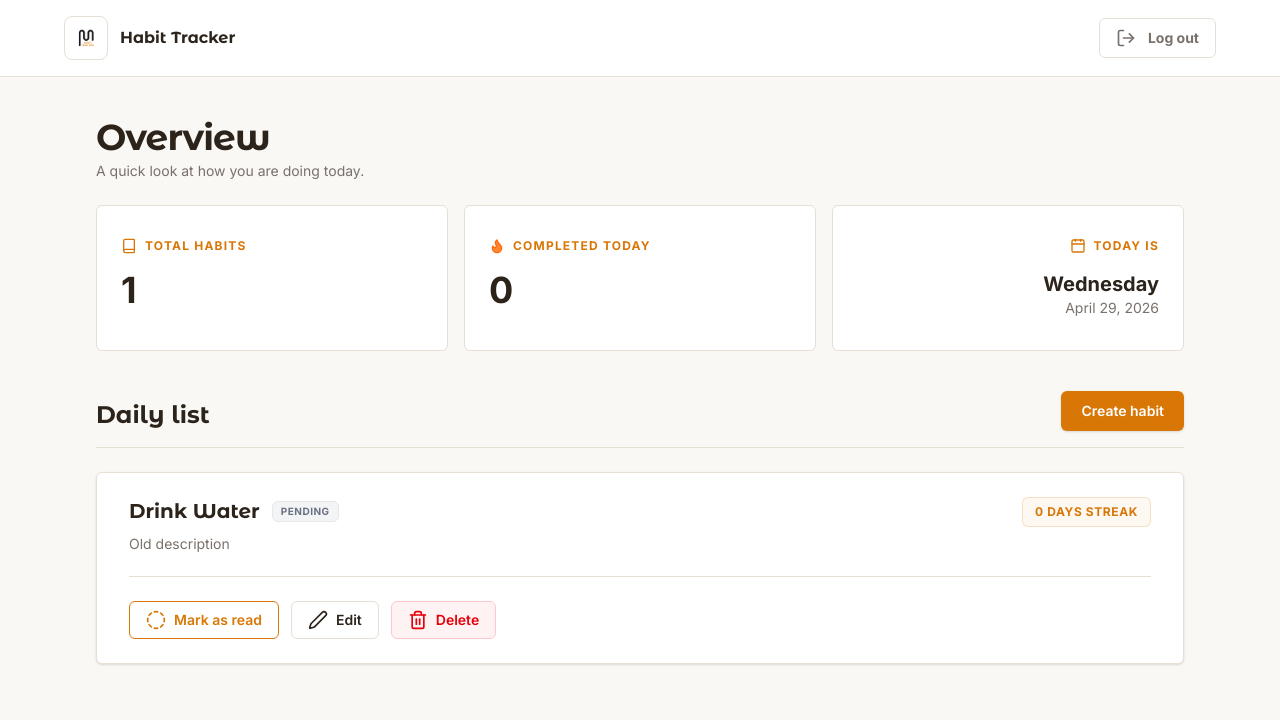
Test: habit form › edits an existing habit and preserves immutable fields
Click the button with test id "habit-edit-drink-water".
click(335, 620)  # box top-left (291, 601), bottom-right (379, 639)
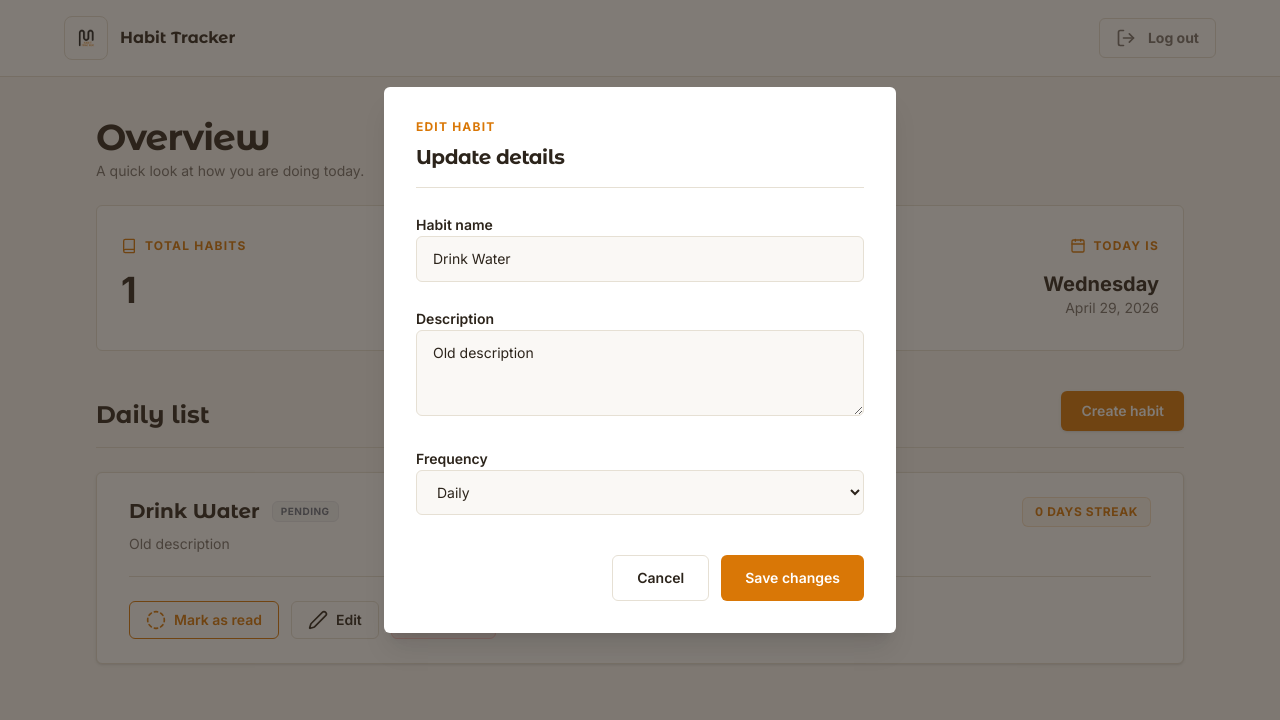
Type "Read Books" into the field with test id "habit-name-input".
click(640, 259); type("Read Books")  # box top-left (416, 236), bottom-right (864, 282)
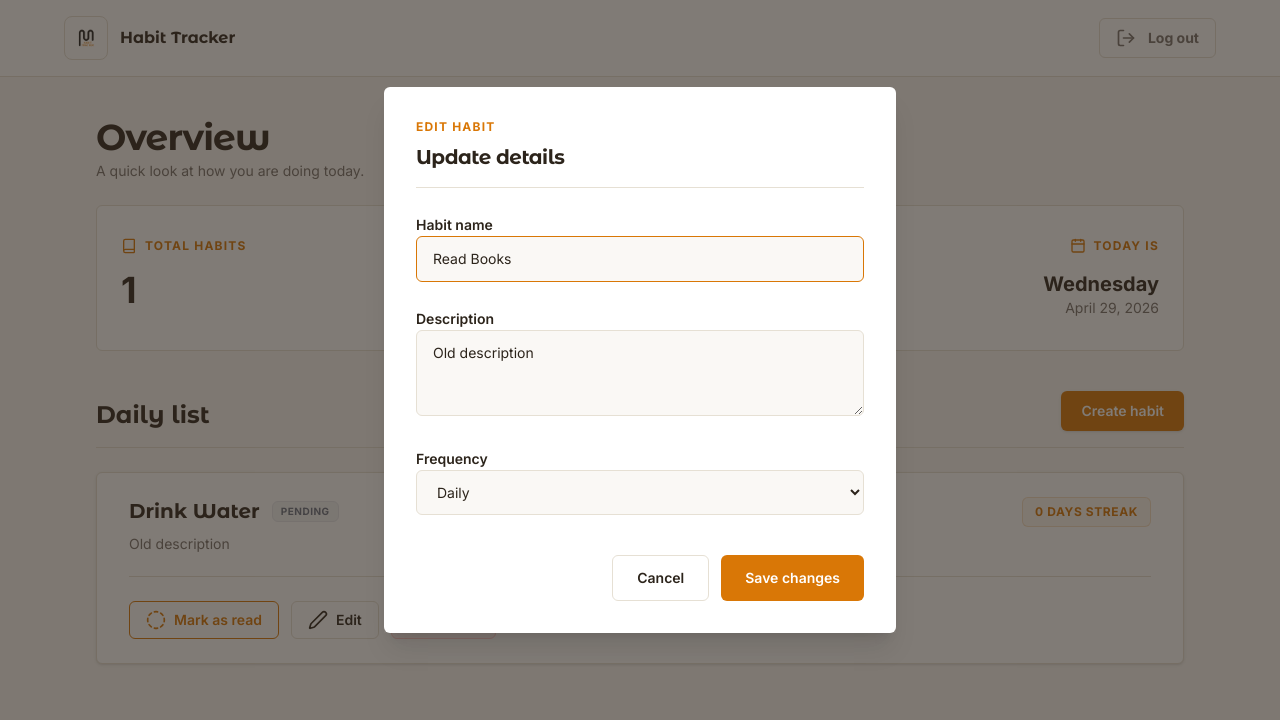
Replace the text in the text box with test id "habit-description-input" with "Read ten pages" at point(640, 373), box top-left (416, 330), bottom-right (864, 416)
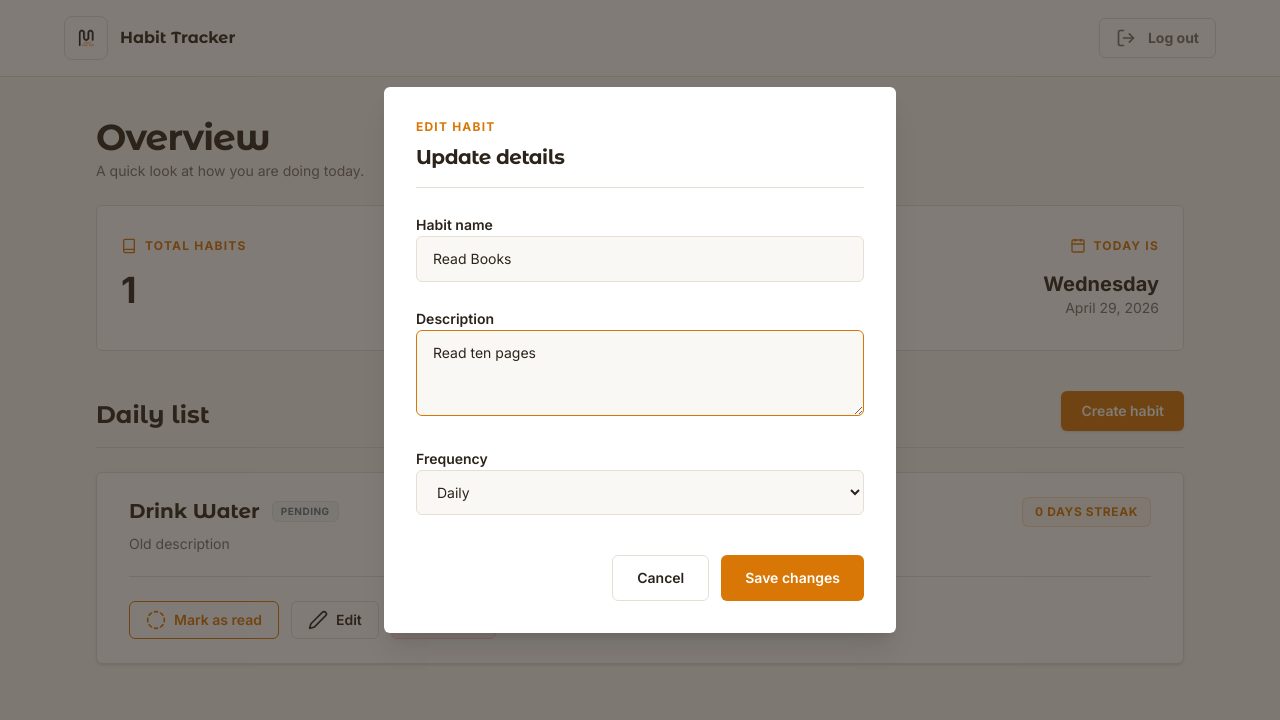
Click the button with test id "habit-save-button".
click(793, 578)  # box top-left (721, 555), bottom-right (864, 601)
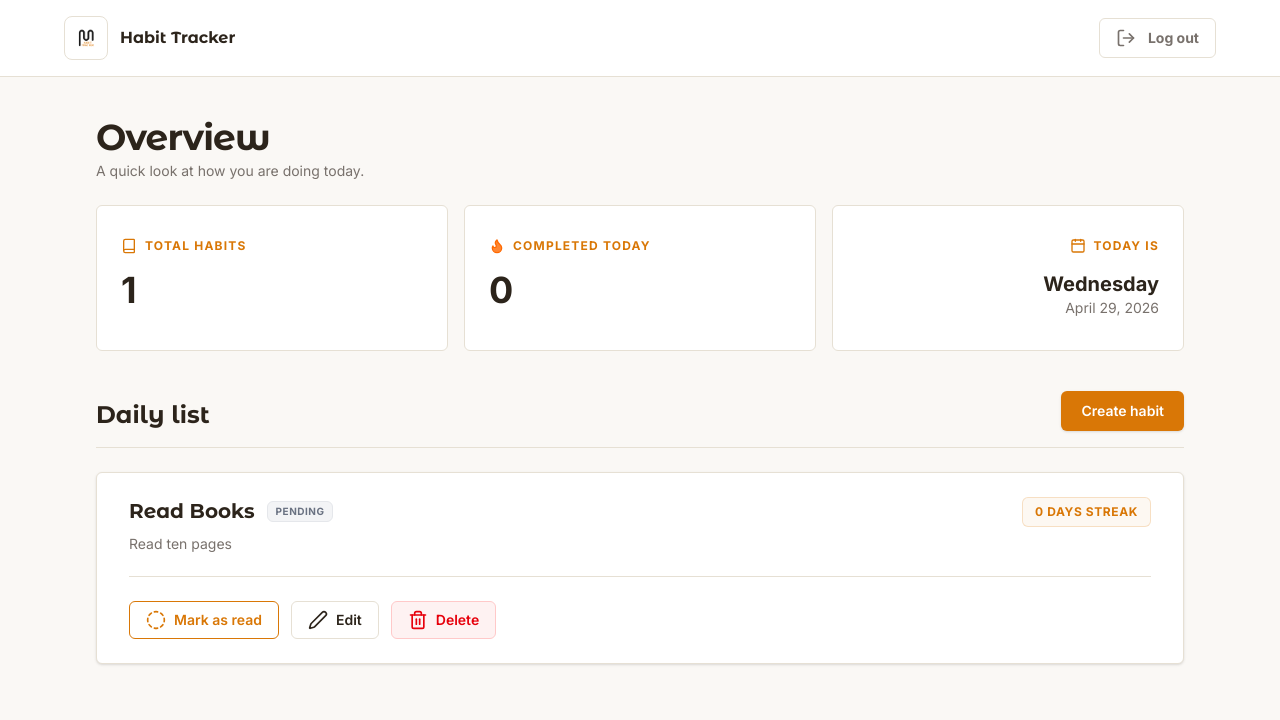
Check: the element with test id "habit-card-read-books" is shown, box top-left (96, 472), bottom-right (1184, 664)
